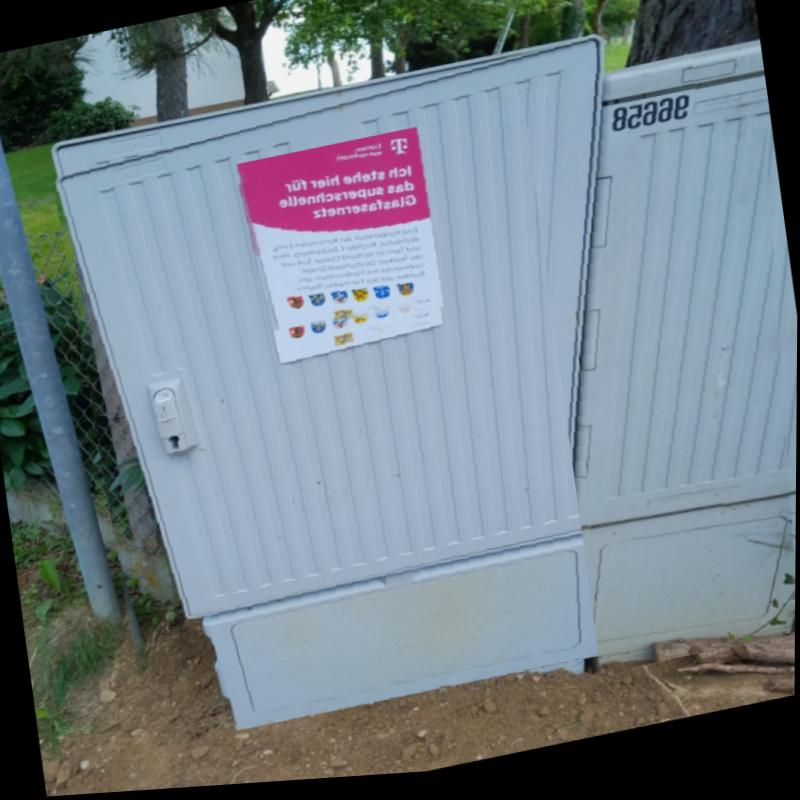NT-Gehause: (52, 44, 609, 728), (579, 50, 797, 673)
Steaker: (234, 130, 448, 350)
